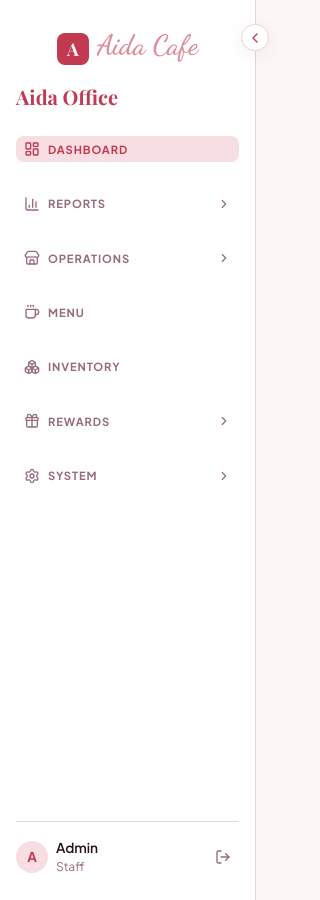
Scenario: AdminSidebar (collapse toggle) › collapses to an icon-only rail, hiding text labels
Click the button named "Collapse sidebar": [255, 38] box top-left (241, 24), bottom-right (269, 51)
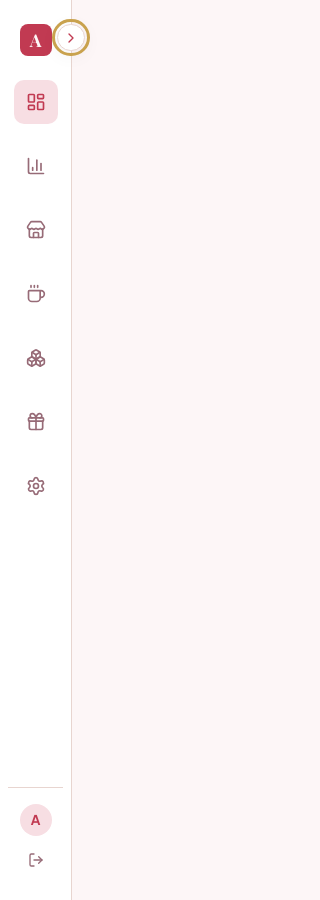
Now the text "Dashboard" is gone
Now the text "Reports" is gone
Now the number of buttons named "Reports" is 4, box top-left (14, 144), bottom-right (58, 188); top-left (14, 208), bottom-right (58, 252); top-left (14, 400), bottom-right (58, 444); top-left (14, 464), bottom-right (58, 508)
